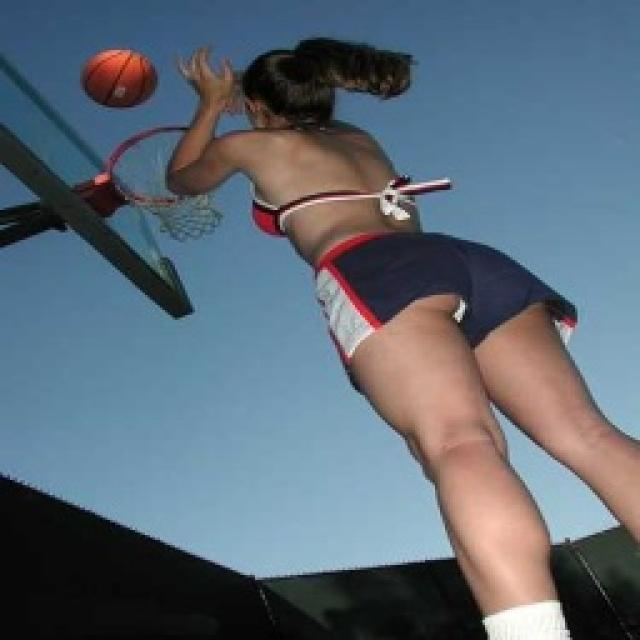basketball: (83, 46, 159, 114)
